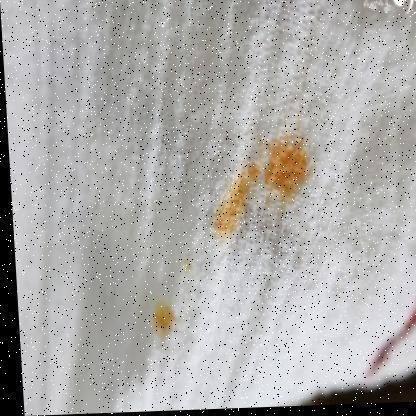kimchi: (261, 138, 319, 201), (211, 165, 259, 238), (150, 301, 184, 343), (178, 257, 196, 274)
